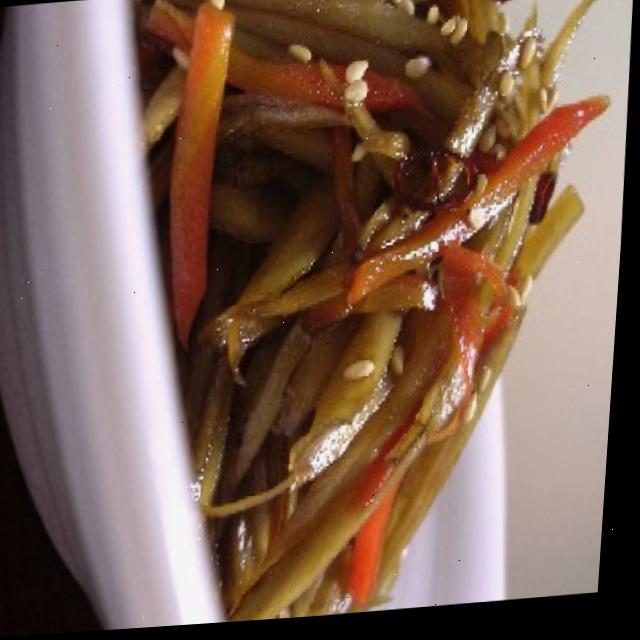蔬菜料理: (6, 0, 640, 638)
